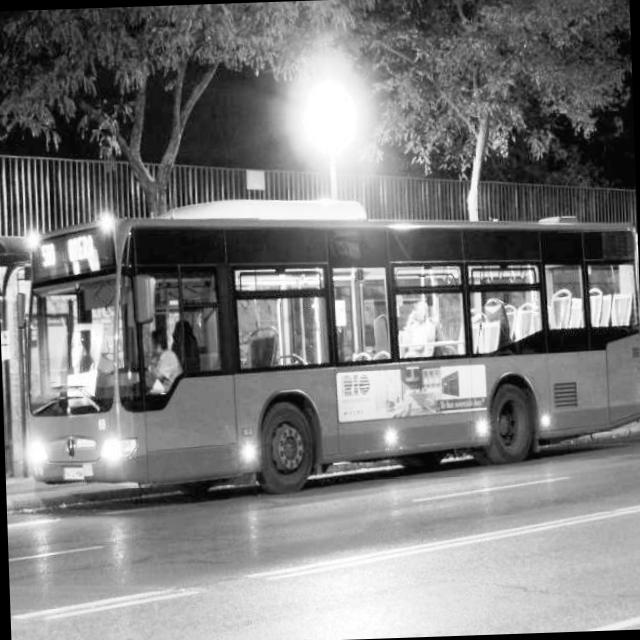Bus: (9, 183, 640, 506)
